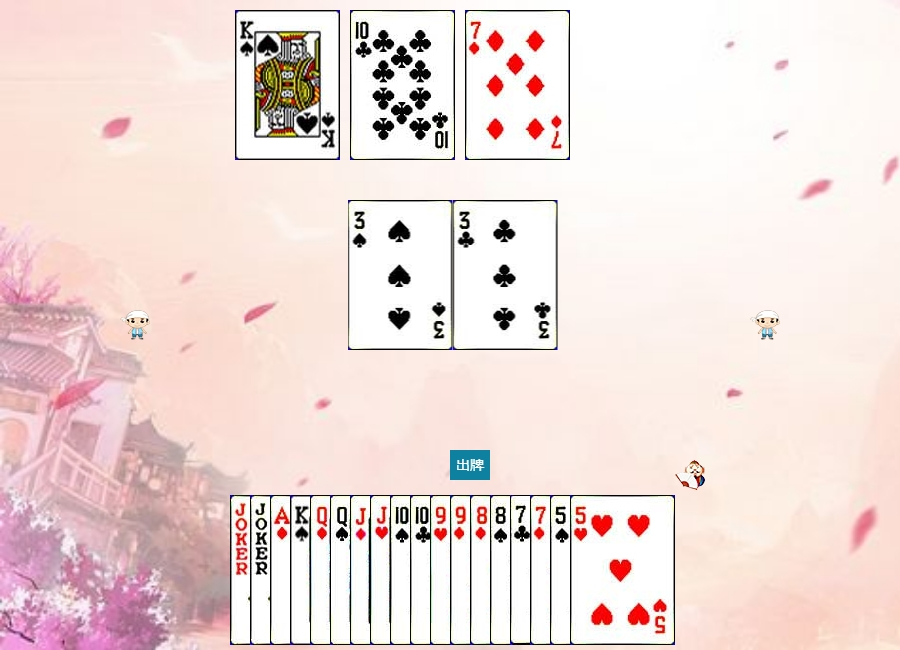10~2: (350, 10, 455, 160), (410, 495, 515, 645)
10~4: (390, 495, 495, 645)
11~1: (350, 495, 455, 645)
11~3: (370, 495, 475, 645)
12~1: (310, 495, 415, 645)
12~4: (330, 495, 435, 645)
13~4: (235, 10, 340, 160), (290, 495, 395, 645)
14~1: (270, 495, 375, 645)
17~3: (250, 495, 355, 645)
18~4: (230, 495, 335, 645)
3~2: (453, 200, 558, 350)
3~4: (348, 200, 453, 350)
5~3: (570, 495, 675, 645)
5~4: (550, 495, 655, 645)
7~1: (465, 10, 570, 160), (530, 495, 635, 645)
7~2: (510, 495, 615, 645)
8~1: (470, 495, 575, 645)
8~4: (490, 495, 595, 645)
9~1: (450, 495, 555, 645)
9~3: (430, 495, 535, 645)
